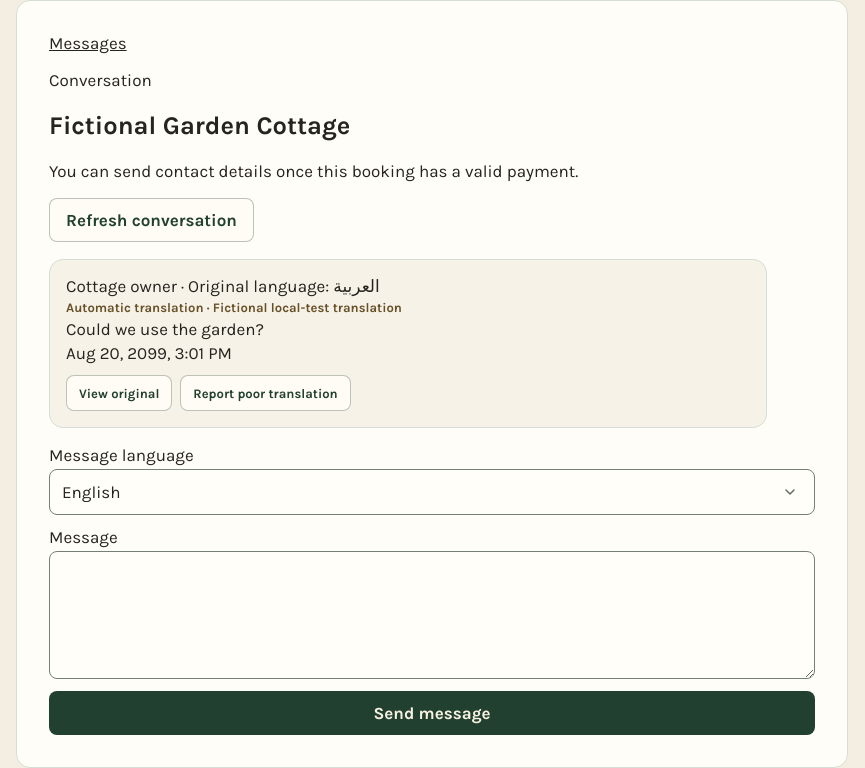
Test case: Messaging conversation › labels saved fictional translation and exposes the original
Expected: the text "Automatic translation · Fictional local-test translation" is shown, [66, 300, 402, 315]
What coordinates should you click on to do the following:
click the button "View original"
I would click on:
 (119, 393)
Its box is [66, 375, 172, 411].
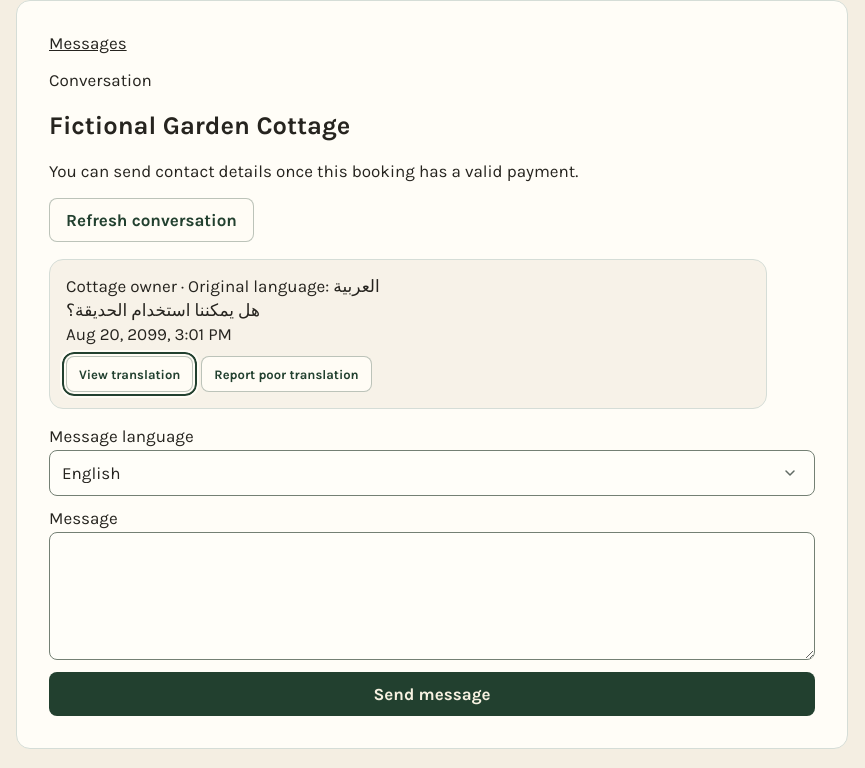
Now the text "Fictional local-test translation" is gone
